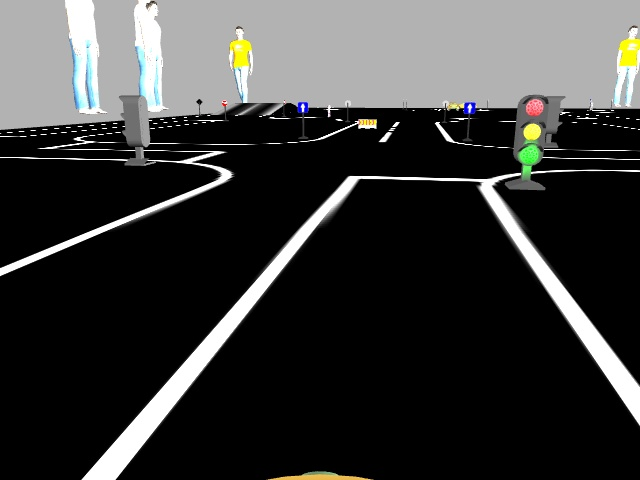ClosedRoadStand: (357, 119, 376, 128)
OneWay: (465, 101, 474, 113), (297, 101, 306, 112)
TrafficLight: (513, 91, 546, 165)
